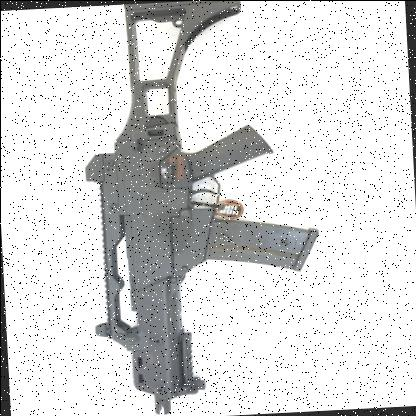rifle: (35, 0, 317, 416)
